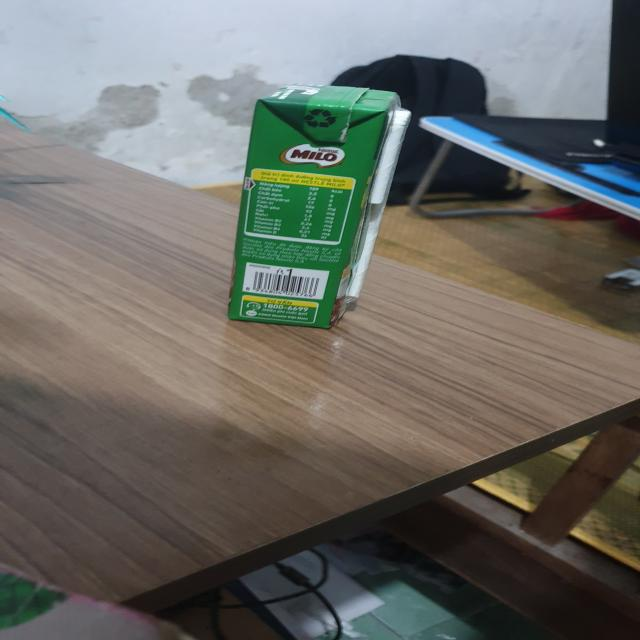Milo: (230, 90, 413, 326)
